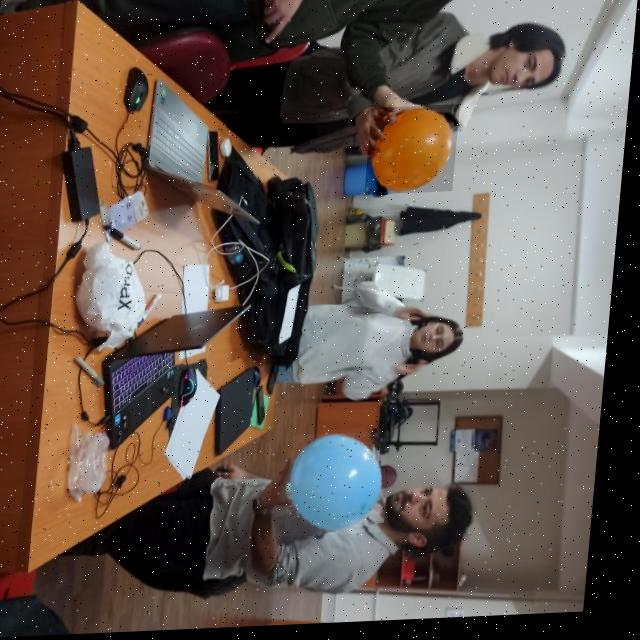balloon: (293, 435, 397, 539), (367, 109, 461, 199)
